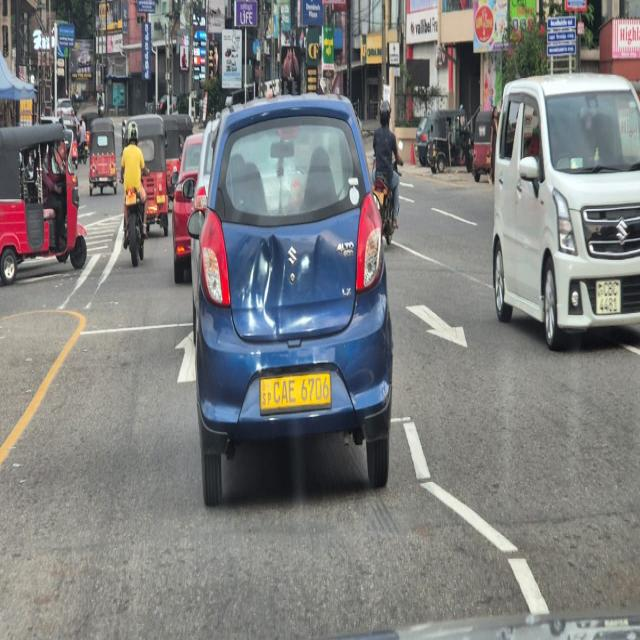Dent: (226, 219, 355, 338), (238, 234, 284, 325), (540, 246, 552, 296), (542, 225, 557, 255), (0, 233, 21, 254), (492, 232, 500, 255), (76, 225, 87, 237)
